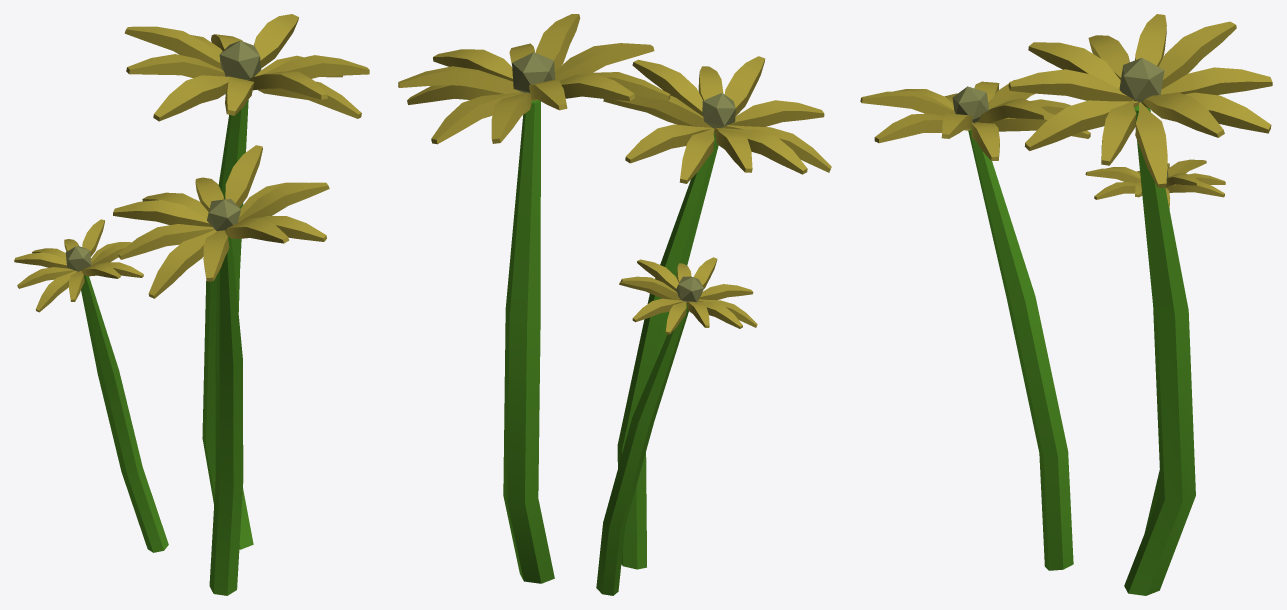
Rendered from flower3.fbx.
3 renders of one model, left to right at view 1: azimuth 30°, elevation 25°; view 2: azimuth 150°, elevation 25°; view 3: azimuth 270°, elevation 25°, orthographic. The views are drawn at different scales.
Parts seen in each view (by area): view 1: petals, stems.002, centers; view 2: petals, stems.002, centers; view 3: petals, stems.002, centers.
Part boxes in pixels (<box>): petals: <box>14,14,369,312</box>; stems.002: <box>81,100,253,595</box>; centers: <box>65,40,261,271</box>; petals: <box>398,14,831,334</box>; stems.002: <box>503,100,718,595</box>; centers: <box>512,52,735,302</box>; petals: <box>860,14,1272,209</box>; stems.002: <box>968,105,1195,595</box>; centers: <box>952,58,1168,177</box>.
Bounding box in the file's own units: 0.3193 × 0.4804 × 0.3326.
